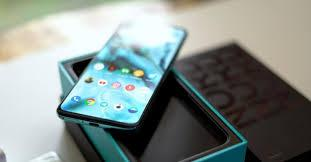Smartphone: (56, 15, 185, 128)
